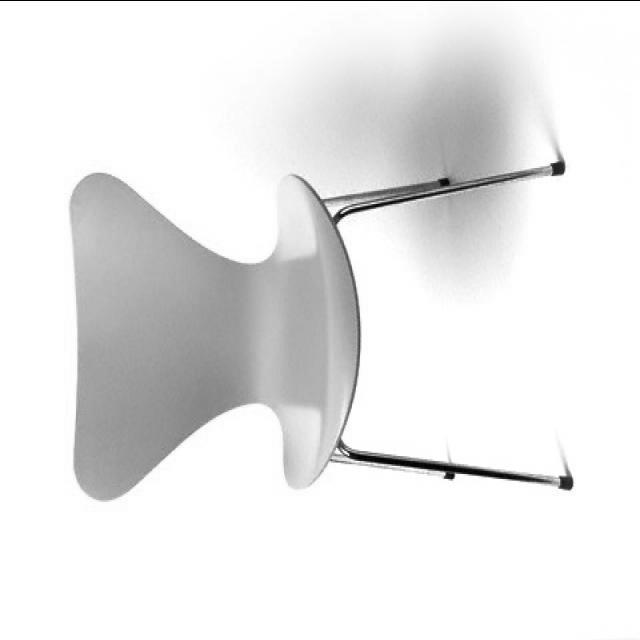chair: (70, 156, 576, 504)
